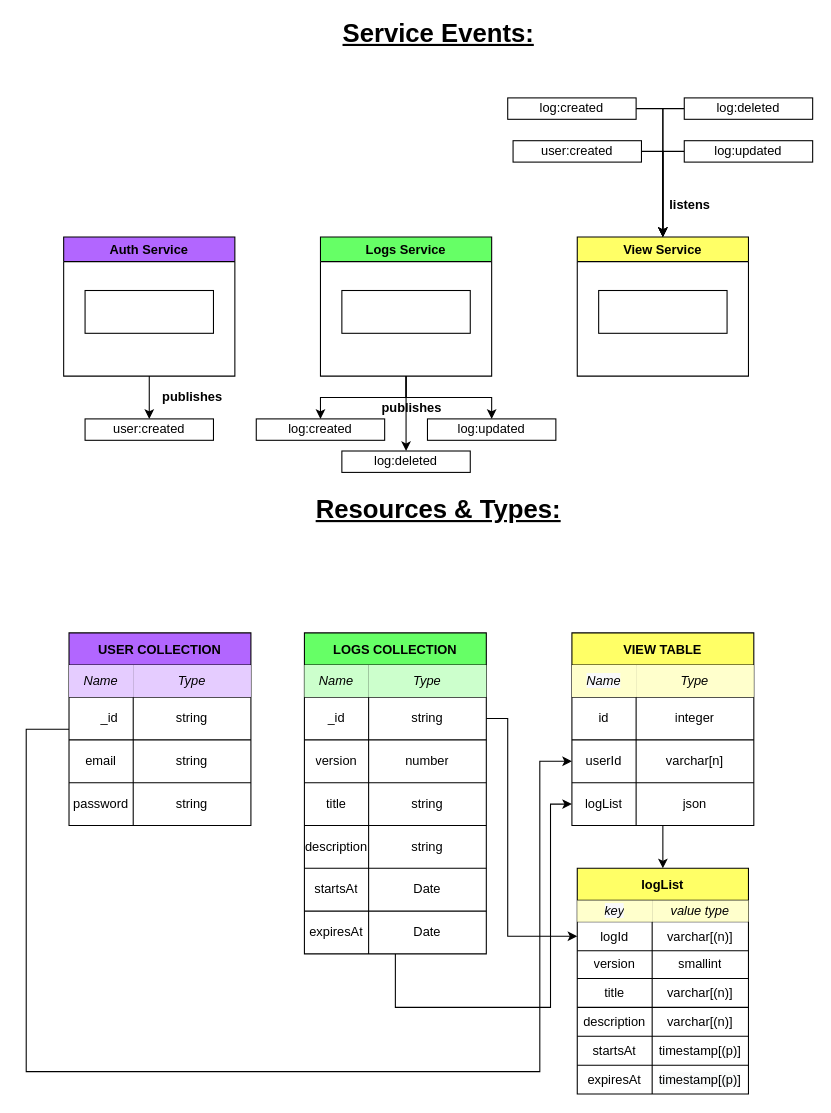
This 831x1113 diagram has some shape labels left out. The shapes that lost their labels are listed below. From the top down, each one's centre as x and y in pixels, then its label:
At (148,311): "User collection (mongoDB)".
At (405,311): "Logs collection (mongoDB)".
At (662,311): "User with logs Table (PostgreSQL)".
